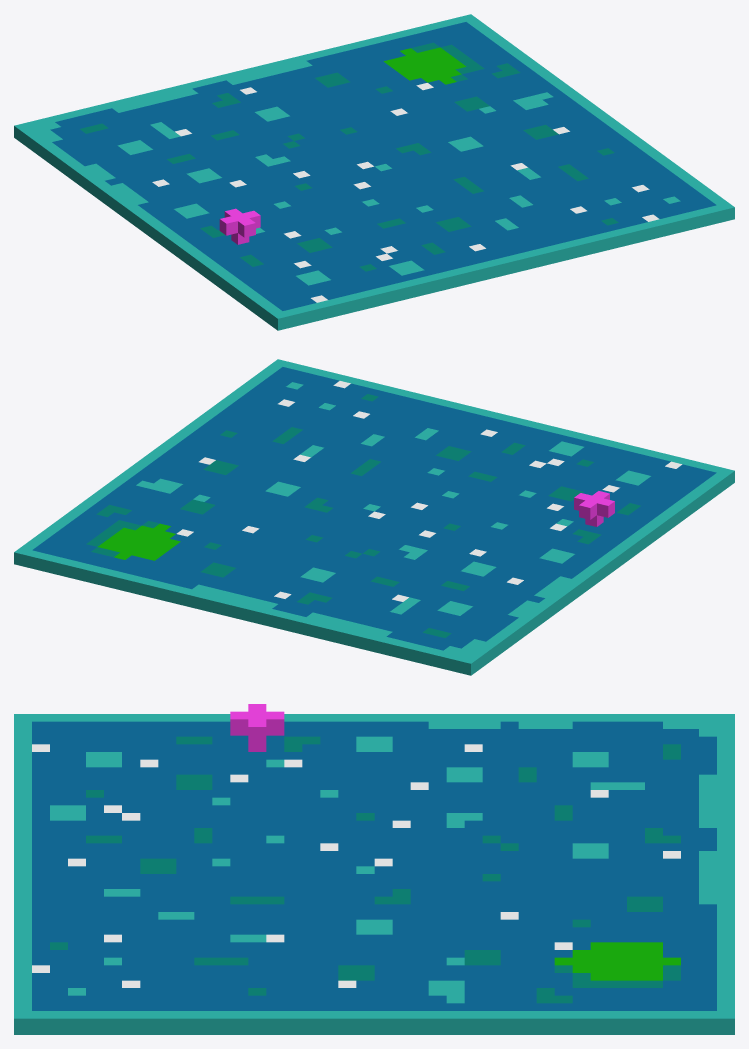
File: Water.fbx
3 views of the same model, one above another, from view 1: azimuth 30°, elevation 25°; view 2: azimuth 150°, elevation 25°; view 3: azimuth 270°, elevation 25° (orthographic). The views are drawn at different scales.
Visible parts, largest first — view 1: Water_backround1:Mesh; view 2: Water_backround1:Mesh; view 3: Water_backround1:Mesh.
Boxes of the visible parts, <box> form: Water_backround1:Mesh: <box>14,14,734,330</box>; Water_backround1:Mesh: <box>14,359,734,675</box>; Water_backround1:Mesh: <box>14,704,734,1034</box>.
Bounding box in the file's own units: 40 × 3 × 40.
Materials: 1 (1 with a texture image).
